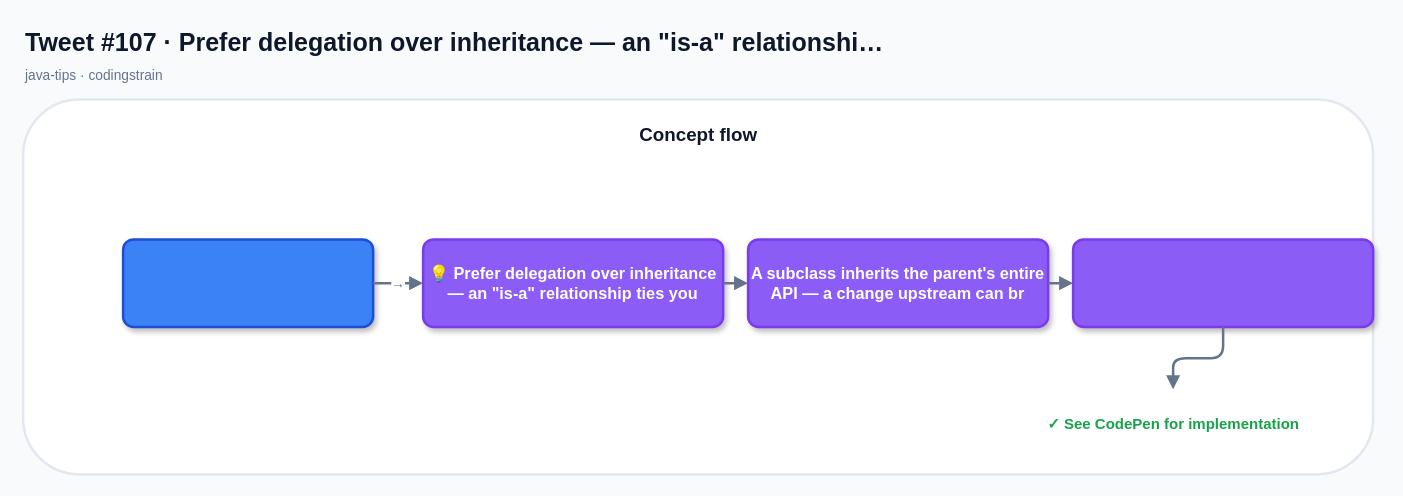
The diagram is 1403 pixels wide and 496 high, and some of its shapes have lost their labels. Each missing label, with the centre of its shape:
"Problem / context" belongs at point (248, 284).
"With delegation, you hold a helper object and forward calls — easy to" belongs at point (1223, 284).
